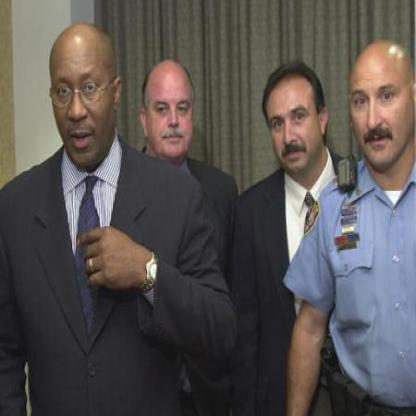face: (50, 25, 117, 171), (350, 44, 414, 171), (268, 70, 321, 175), (147, 63, 197, 161)
